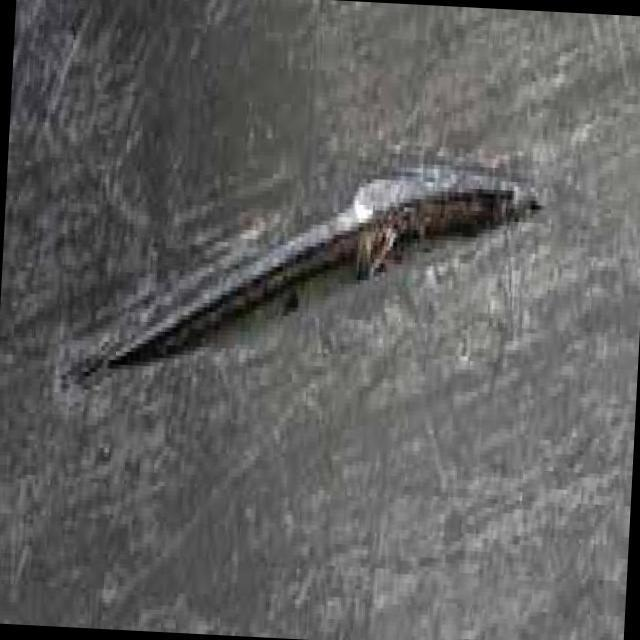Tear: (91, 183, 550, 382)
